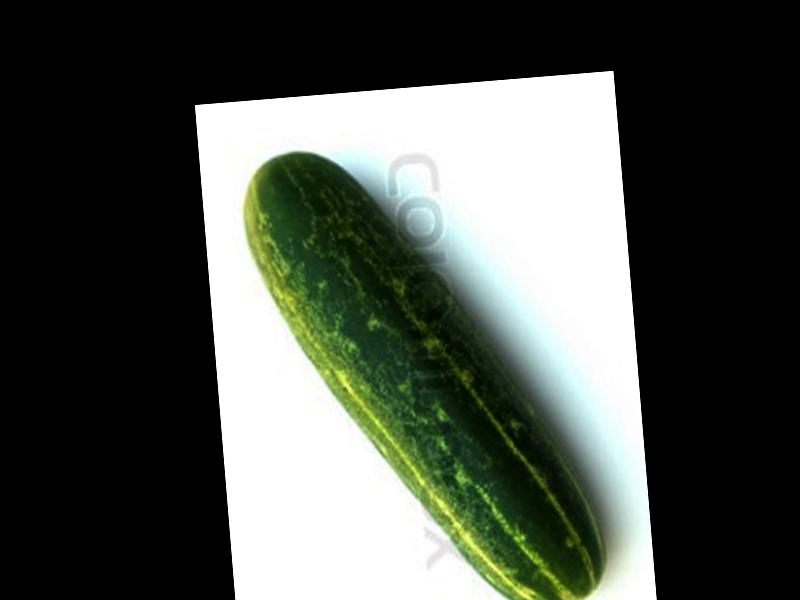Cucumber: (236, 131, 607, 600)
